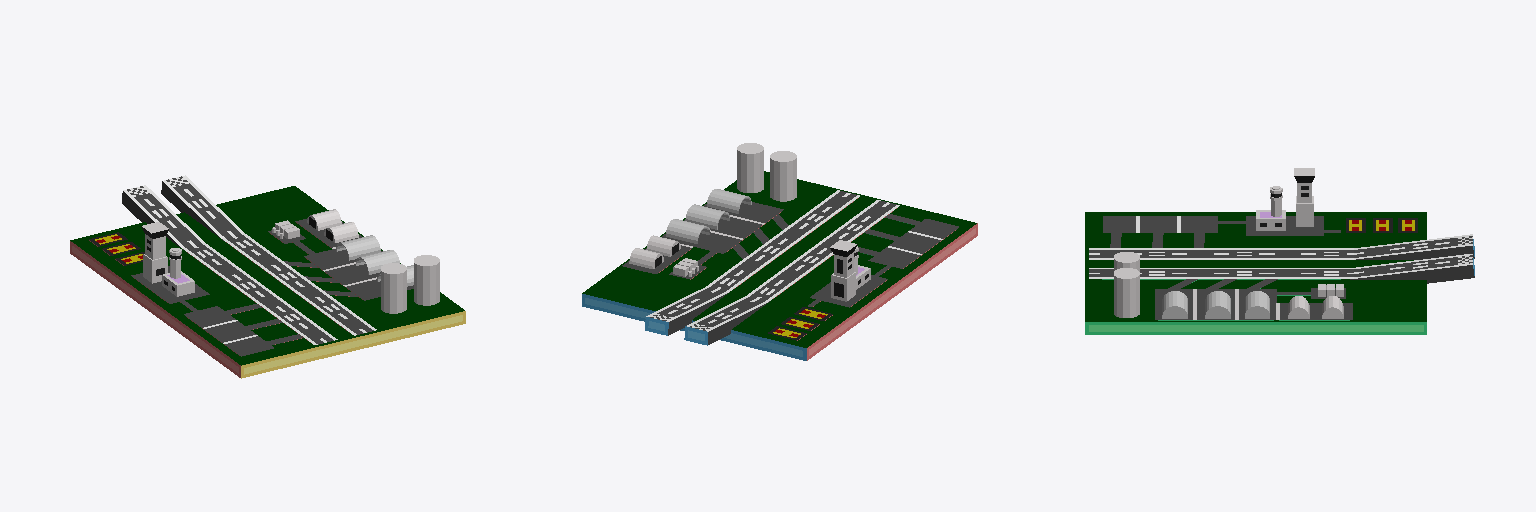
3 renders of one model, left to right at view 1: azimuth 30°, elevation 25°; view 2: azimuth 150°, elevation 25°; view 3: azimuth 270°, elevation 25°, orthographic.
Parts seen in each view (by area): view 1: cuboid, cylinder, tube; view 2: cuboid, cylinder, tube; view 3: cuboid, cylinder, tube.
Boxes of the visible parts, x1,y1,x2,y2 form: cuboid: [70, 175, 465, 378]; cylinder: [169, 209, 439, 313]; tube: [336, 235, 413, 286]; cuboid: [582, 171, 977, 360]; cylinder: [629, 143, 858, 276]; tube: [666, 189, 751, 243]; cuboid: [1085, 183, 1474, 334]; cylinder: [1114, 186, 1343, 318]; tube: [1162, 291, 1269, 318].
Bounding box in the file's own units: 4.3 × 1.49 × 6.45.
Materials: 2 (1 with a texture image).